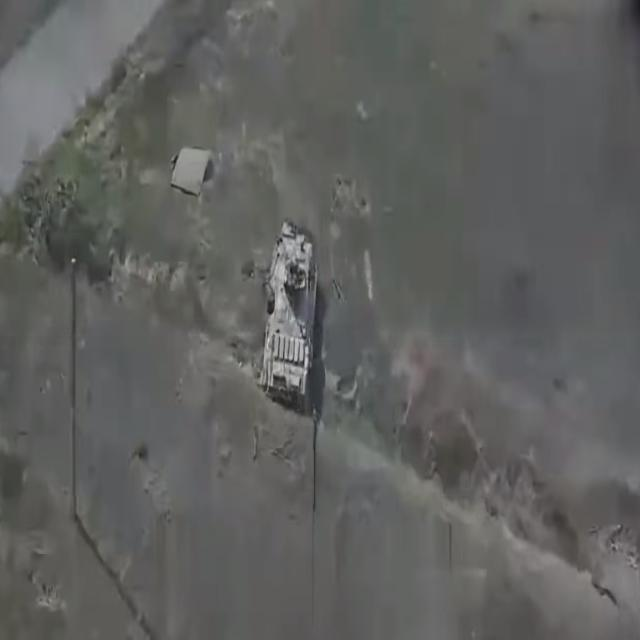APC: (258, 220, 322, 408)
